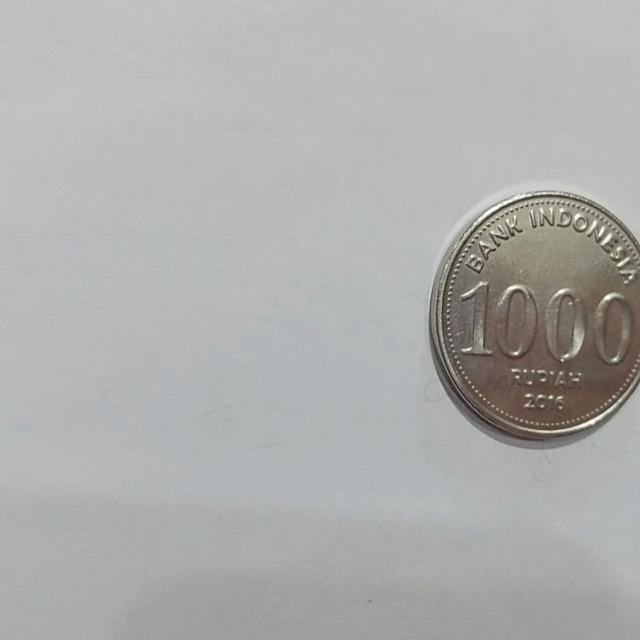Rp100: (427, 187, 640, 447)
